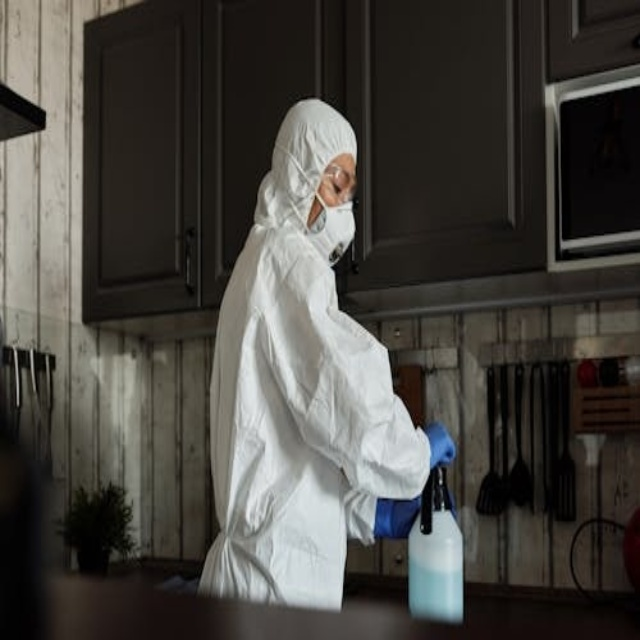Gafas: (321, 162, 360, 207)
Guantes: (374, 493, 425, 540), (424, 421, 456, 470), (440, 484, 458, 523)
Mascara: (309, 190, 355, 261)
